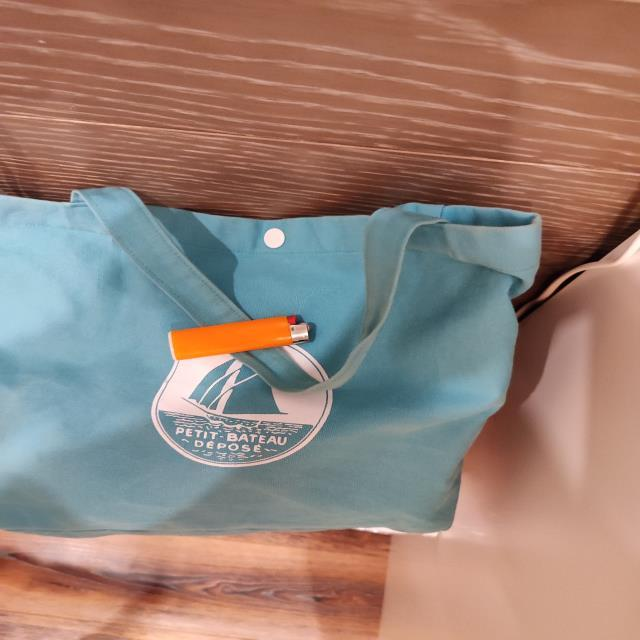lighter: (170, 316, 309, 360)
